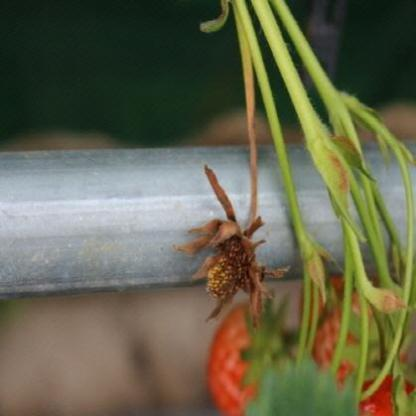Strawberry_Gray_Mold: (172, 164, 292, 329)
